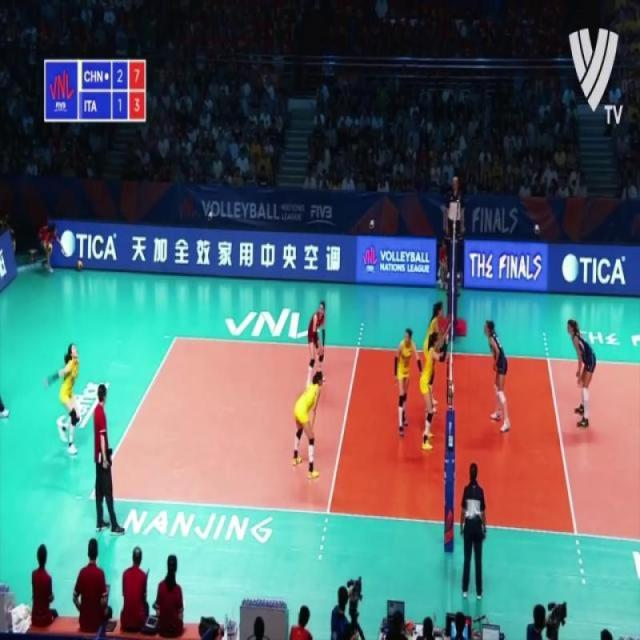volleyball: (76, 258, 84, 272), (46, 239, 53, 254)
